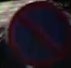No waiting: (6, 5, 65, 61)
